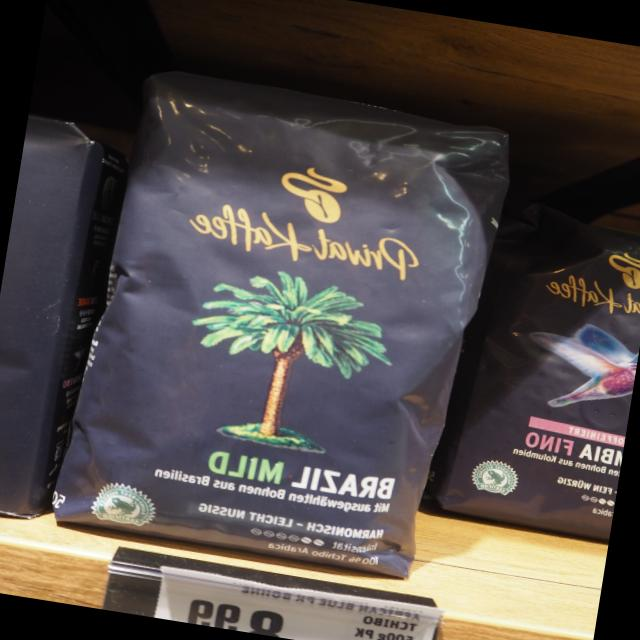BM Bohne: (47, 61, 518, 584)
